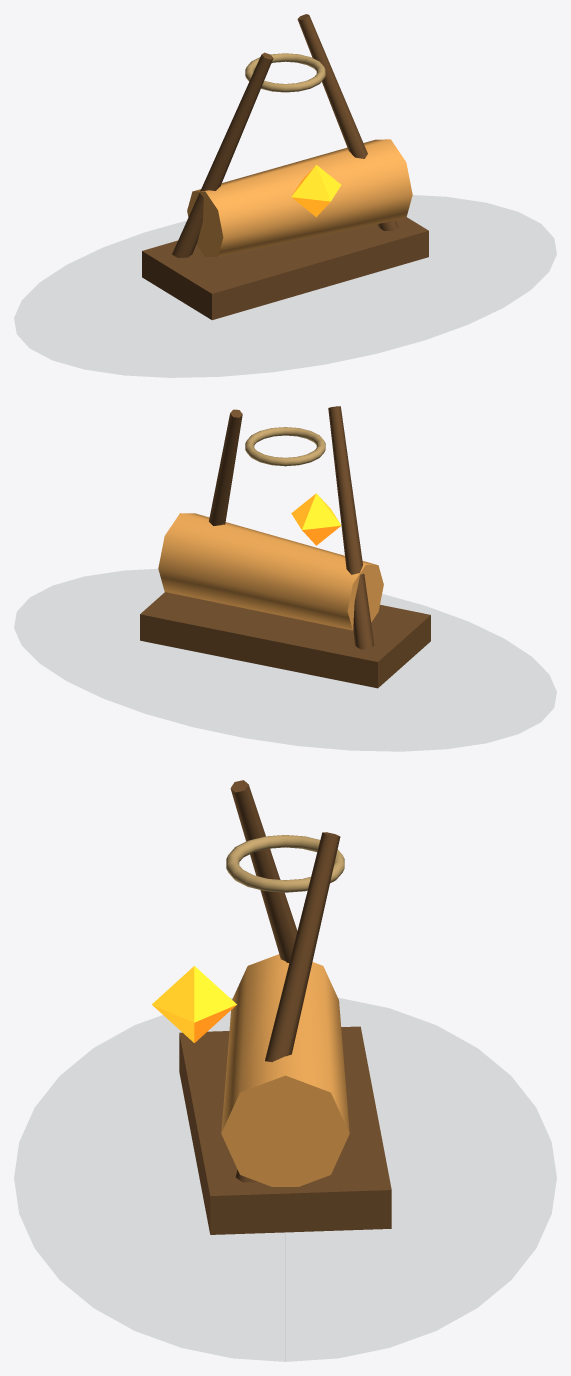
Rendered from migration_site.glb.
The picture shows the model from 3 angles, top to bottom: view 1: azimuth 30°, elevation 25°; view 2: azimuth 150°, elevation 25°; view 3: azimuth 270°, elevation 25°; orthographic projection. The views are drawn at different scales.
Parts seen in each view (by area): view 1: soft_ground_shadow, migration_hide_roll, migration_pack_sled, migration_tripod_left, migration_tripod_right, migration_fire_seed, migration_lash_ring; view 2: soft_ground_shadow, migration_hide_roll, migration_pack_sled, migration_tripod_left, migration_tripod_right, migration_lash_ring, migration_fire_seed; view 3: soft_ground_shadow, migration_hide_roll, migration_pack_sled, migration_tripod_right, migration_fire_seed, migration_tripod_left, migration_lash_ring.
Part boxes in pixels (bbox=[...]): soft_ground_shadow: bbox=[14, 195, 555, 377]; migration_hide_roll: bbox=[187, 139, 412, 256]; migration_pack_sled: bbox=[142, 217, 428, 320]; migration_tripod_left: bbox=[172, 52, 273, 257]; migration_tripod_right: bbox=[297, 14, 398, 230]; migration_fire_seed: bbox=[291, 165, 341, 217]; migration_lash_ring: bbox=[245, 53, 325, 92]; soft_ground_shadow: bbox=[14, 569, 555, 750]; migration_hide_roll: bbox=[158, 513, 383, 630]; migration_pack_sled: bbox=[140, 592, 430, 688]; migration_tripod_left: bbox=[328, 406, 374, 649]; migration_tripod_right: bbox=[209, 409, 242, 525]; migration_lash_ring: bbox=[245, 427, 325, 466]; migration_fire_seed: bbox=[291, 493, 341, 545]; soft_ground_shadow: bbox=[14, 998, 556, 1361]; migration_hide_roll: bbox=[221, 954, 349, 1186]; migration_pack_sled: bbox=[179, 1026, 391, 1234]; migration_tripod_right: bbox=[235, 832, 340, 1182]; migration_fire_seed: bbox=[152, 966, 236, 1042]; migration_tripod_left: bbox=[230, 780, 297, 962]; migration_lash_ring: bbox=[226, 835, 344, 892].
Bounding box in the file's own units: 3.25 × 1.53 × 2.03.
